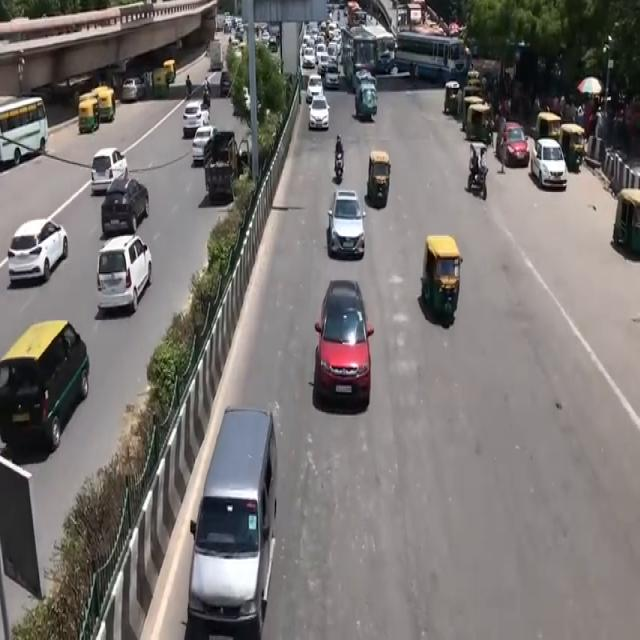BUS: (395, 29, 466, 83)
MOTORCYCLE: (469, 166, 487, 200), (336, 153, 346, 185)
